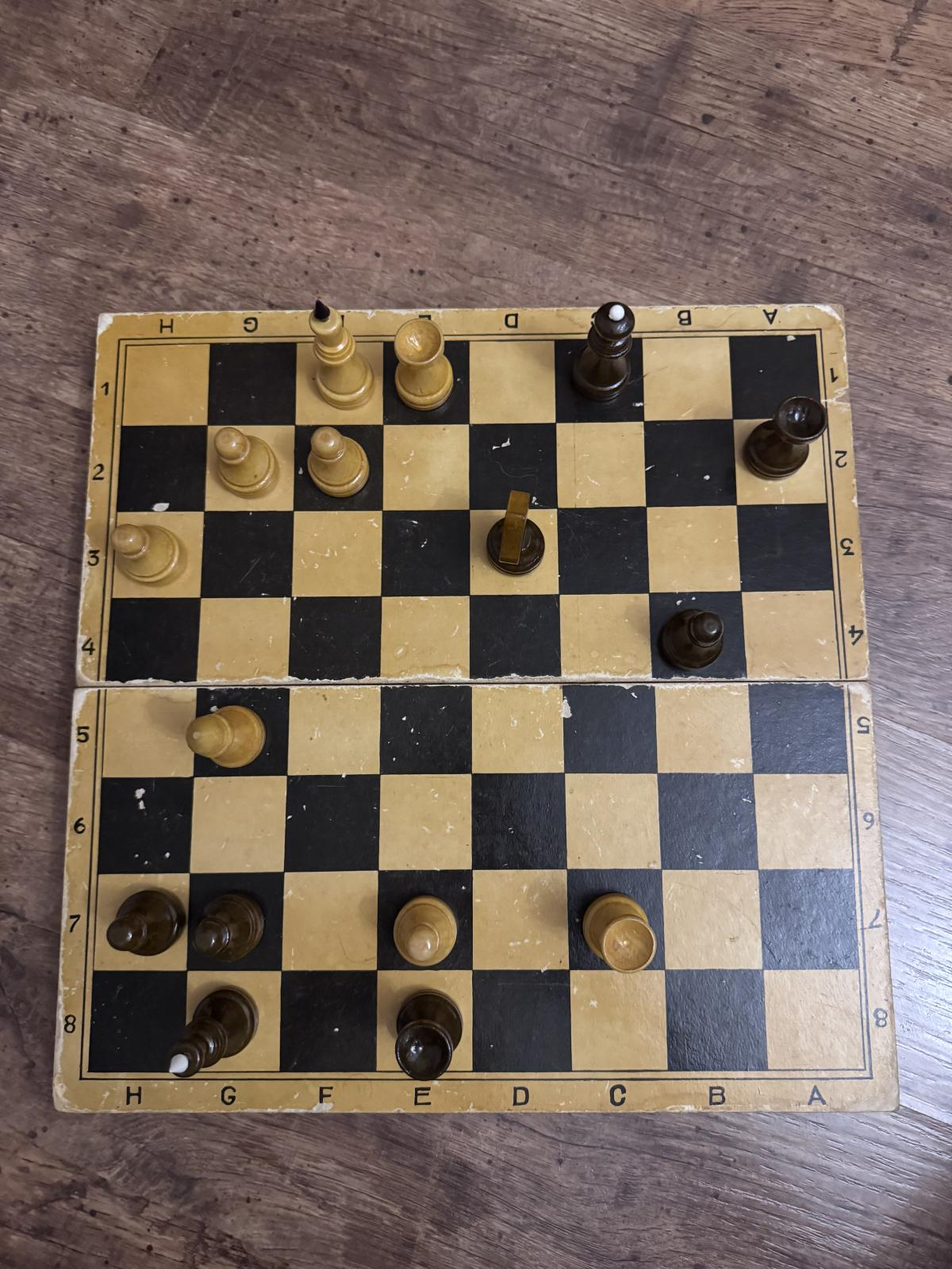Chess-Board: (89, 335, 865, 1071)
